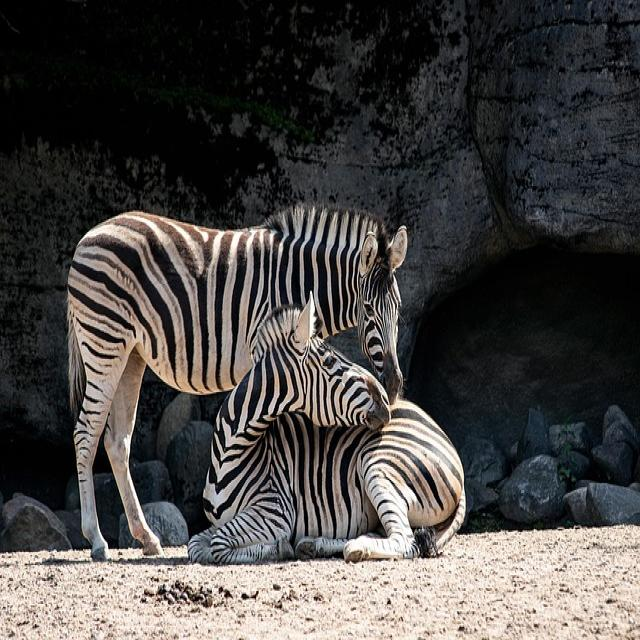Herbivorous: (65, 203, 410, 562), (190, 311, 441, 564)
